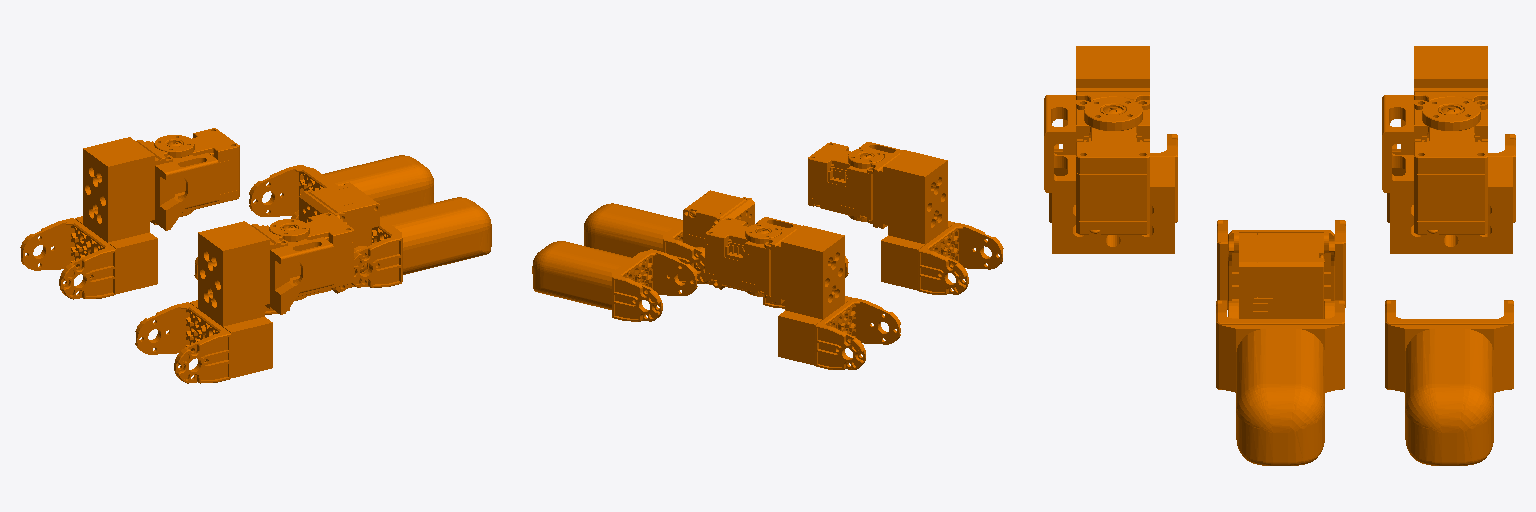
URDF robot description (onshape):
<robot name="onshape">
  <link name="palm_lower">
    <inertial>
      <origin xyz="0.0 0.0 0.0" rpy="0.0 -0.0 0.0"/>
      <mass value="0.237"/>
      <inertia ixx="0.000354094" ixy="-1.193e-06" ixz="-2.445e-06" iyy="0.000260915" iyz="-2.905e-06" izz="0.000529257"/>
    </inertial>
    <visual>
      <geometry>
        <mesh filename="../assets/leap/leap_hand/palm_lower.stl"/>
      </geometry>
      <origin xyz="-0.020095249652862544 0.025757756134899473 -0.034722403578460216" rpy="0.0 -0.0 0.0"/>
      <material name="palm_lower_material">
        <color rgba="0.6039215686274509 0.14901960784313725 0.14901960784313725 1.0"/>
      </material>
    </visual>
    <collision>
      <geometry>
        <mesh filename="../assets/leap/leap_hand/palm_lower.stl"/>
      </geometry>
      <origin xyz="-0.020095249652862544 0.025757756134899473 -0.034722403578460216" rpy="0.0 -0.0 0.0"/>
    </collision>
  </link>
  <link name="mcp_joint_long">
    <inertial>
      <origin xyz="0.0 0.0 0.0" rpy="0.0 -0.0 0.0"/>
      <mass value="0.044"/>
      <inertia ixx="1.1499e-05" ixy="3.049e-06" ixz="1.21e-07" iyy="7.796e-06" iyz="1.12e-07" izz="1.4759e-05"/>
    </inertial>
    <visual>
      <geometry>
        <mesh filename="custom_models/mcp_joint_long.stl"/>
      </geometry>
      <origin xyz="0.008406902261174496 0.0077662438597169954 0.014657354985032912" rpy="1.6375789613221e-15 -1.021047330249102e-30 1.7177968783327987e-31"/>
      <material name="mcp_joint_material">
        <color rgba="0.878 0.467 0.0 1.0"/>
      </material>
    </visual>
    <collision>
      <geometry>
        <mesh filename="custom_models/mcp_joint_long.stl"/>
      </geometry>
      <origin xyz="0.008406902261174496 0.0077662438597169954 0.014657354985032912" rpy="1.6375789613221e-15 -1.021047330249102e-30 1.7177968783327987e-31"/>
    </collision>
  </link>
  <link name="pip">
    <inertial>
      <origin xyz="0.0 0.0 0.0" rpy="0.0 -0.0 0.0"/>
      <mass value="0.032"/>
      <inertia ixx="4.798e-06" ixy="1.2e-08" ixz="4e-09" iyy="2.862e-06" iyz="1.1e-08" izz="4.234e-06"/>
    </inertial>
    <visual>
      <geometry>
        <mesh filename="../assets/leap/leap_hand/pip.stl"/>
      </geometry>
      <origin xyz="0.009643363092271328 0.0002999999999999895 0.0007840340104173765" rpy="-1.5707963267948966 -1.5707963267948963 0.0"/>
      <material name="pip_material">
        <color rgba="0.7490196078431373 0.7490196078431373 0.7490196078431373 1.0"/>
      </material>
    </visual>
    <collision>
      <geometry>
        <mesh filename="../assets/leap/leap_hand/pip.stl"/>
      </geometry>
      <origin xyz="0.009643363092271328 0.0002999999999999895 0.0007840340104173765" rpy="-1.5707963267948966 -1.5707963267948963 0.0"/>
    </collision>
  </link>
  <link name="dip">
    <inertial>
      <origin xyz="0.0 0.0 0.0" rpy="0.0 -0.0 0.0"/>
      <mass value="0.037"/>
      <inertia ixx="5.542e-06" ixy="-6.07e-07" ixz="-1.7e-08" iyy="5.727e-06" iyz="-2.3e-08" izz="6.682e-06"/>
    </inertial>
    <visual>
      <geometry>
        <mesh filename="../assets/leap/leap_hand/dip.stl"/>
      </geometry>
      <origin xyz="0.021133352895225003 -0.00843211914670488 0.00978508816209524" rpy="-3.141592653589793 4.507511124216441e-32 4.439548105392361e-32"/>
      <material name="dip_material">
        <color rgba="0.8666666666666667 0.8666666666666667 0.050980392156862744 1.0"/>
      </material>
    </visual>
    <collision>
      <geometry>
        <mesh filename="../assets/leap/leap_hand/dip.stl"/>
      </geometry>
      <origin xyz="0.021133352895225003 -0.00843211914670488 0.00978508816209524" rpy="-3.141592653589793 4.507511124216441e-32 4.439548105392361e-32"/>
    </collision>
  </link>
  <link name="fingertip_long">
    <inertial>
      <origin xyz="0.0 0.0 0.0" rpy="0.0 -0.0 0.0"/>
      <mass value="0.016"/>
      <inertia ixx="3.368e-06" ixy="1.15e-07" ixz="0.0" iyy="1.556e-06" iyz="0.0" izz="2.863e-06"/>
    </inertial>
    <visual>
      <geometry>
        <mesh filename="custom_models/fingertip_long.stl"/>
      </geometry>
      <origin xyz="0.013286424108533503 -0.006114238386541987 0.014499999999999498" rpy="3.141592653589793 1.1993117970061735e-33 4.439548105392361e-32"/>
      <material name="fingertip_material">
        <color rgba="0.878 0.467 0.0 1.0"/>
      </material>
    </visual>
    <collision>
      <geometry>
        <mesh filename="custom_models/fingertip_long.stl"/>
      </geometry>
      <origin xyz="0.013286424108533503 -0.006114238386541987 0.014499999999999498" rpy="3.141592653589793 1.1993117970061735e-33 4.439548105392361e-32"/>
    </collision>
  </link>
  <link name="pip_4">
    <inertial>
      <origin xyz="0.0 0.0 0.0" rpy="0.0 -0.0 0.0"/>
      <mass value="0.032"/>
      <inertia ixx="4.798e-06" ixy="1.2e-08" ixz="4e-09" iyy="2.862e-06" iyz="1.1e-08" izz="4.234e-06"/>
    </inertial>
    <visual>
      <geometry>
        <mesh filename="../assets/leap/leap_hand/pip.stl"/>
      </geometry>
      <origin xyz="-0.005356636907728671 0.0002999999999999999 0.0007840340104173782" rpy="-1.5707963267948966 -1.5707963267948963 0.0"/>
      <material name="pip_material">
        <color rgba="0.7490196078431373 0.7490196078431373 0.7490196078431373 1.0"/>
      </material>
    </visual>
    <collision>
      <geometry>
        <mesh filename="../assets/leap/leap_hand/pip.stl"/>
      </geometry>
      <origin xyz="-0.005356636907728671 0.0002999999999999999 0.0007840340104173782" rpy="-1.5707963267948966 -1.5707963267948963 0.0"/>
    </collision>
  </link>
  <link name="thumb_pip">
    <inertial>
      <origin xyz="0.0 0.0 0.0" rpy="0.0 -0.0 0.0"/>
      <mass value="0.003"/>
      <inertia ixx="5.93e-07" ixy="0.0" ixz="0.0" iyy="5.49e-07" iyz="0.0" izz="2.24e-07"/>
    </inertial>
    <visual>
      <geometry>
        <mesh filename="../assets/leap/leap_hand/thumb_pip.stl"/>
      </geometry>
      <origin xyz="0.011961920770611187 -5.30825383648903e-16 -0.0158526489566642" rpy="1.5707963267948966 1.6050198443300153e-46 -3.9204996250525193e-59"/>
      <material name="thumb_pip_material">
        <color rgba="0.8666666666666667 0.8666666666666667 0.050980392156862744 1.0"/>
      </material>
    </visual>
    <collision>
      <geometry>
        <mesh filename="../assets/leap/leap_hand/thumb_pip.stl"/>
      </geometry>
      <origin xyz="0.011961920770611187 -5.30825383648903e-16 -0.0158526489566642" rpy="1.5707963267948966 1.6050198443300153e-46 -3.9204996250525193e-59"/>
    </collision>
  </link>
  <link name="thumb_dip">
    <inertial>
      <origin xyz="0.0 0.0 0.0" rpy="0.0 -0.0 0.0"/>
      <mass value="0.038"/>
      <inertia ixx="8.474e-06" ixy="2.41e-07" ixz="2.6e-08" iyy="3.841e-06" iyz="2.5e-08" izz="7.679e-06"/>
    </inertial>
    <visual>
      <geometry>
        <mesh filename="../assets/leap/leap_hand/thumb_dip.stl"/>
      </geometry>
      <origin xyz="0.043968715707239175 0.0579529529737092 -0.008628676449369476" rpy="1.94289029309401e-16 3.27515792264422e-15 1.112375852965736e-46"/>
      <material name="thumb_dip_material">
        <color rgba="0.8666666666666667 0.8666666666666667 0.050980392156862744 1.0"/>
      </material>
    </visual>
    <collision>
      <geometry>
        <mesh filename="../assets/leap/leap_hand/thumb_dip.stl"/>
      </geometry>
      <origin xyz="0.043968715707239175 0.0579529529737092 -0.008628676449369476" rpy="1.94289029309401e-16 3.27515792264422e-15 1.112375852965736e-46"/>
    </collision>
  </link>
  <link name="thumb_fingertip">
    <inertial>
      <origin xyz="0.0 0.0 0.0" rpy="0.0 -0.0 0.0"/>
      <mass value="0.049"/>
      <inertia ixx="2.0372e-05" ixy="-4.89e-07" ixz="-3e-08" iyy="4.336e-06" iyz="-9.7e-08" izz="1.9845e-05"/>
    </inertial>
    <visual>
      <geometry>
        <mesh filename="../assets/leap/leap_hand/thumb_fingertip.stl"/>
      </geometry>
      <origin xyz="0.06255953846266739 0.07845968291139699 0.048992911807332215" rpy="4.379057701015637e-47 -3.33066907387547e-16 1.2042408677791935e-46"/>
      <material name="thumb_fingertip_material">
        <color rgba="0.6039215686274509 0.14901960784313725 0.14901960784313725 1.0"/>
      </material>
    </visual>
    <collision>
      <geometry>
        <mesh filename="../assets/leap/leap_hand/thumb_fingertip.stl"/>
      </geometry>
      <origin xyz="0.06255953846266739 0.07845968291139699 0.048992911807332215" rpy="4.379057701015637e-47 -3.33066907387547e-16 1.2042408677791935e-46"/>
    </collision>
  </link>
  <link name="mcp_joint_2">
    <inertial>
      <origin xyz="0.0 0.0 0.0" rpy="0.0 -0.0 0.0"/>
      <mass value="0.044"/>
      <inertia ixx="1.1499e-05" ixy="3.049e-06" ixz="1.21e-07" iyy="7.796e-06" iyz="1.12e-07" izz="1.4759e-05"/>
    </inertial>
    <visual>
      <geometry>
        <mesh filename="../assets/leap/leap_hand/mcp_joint.stl"/>
      </geometry>
      <origin xyz="0.008406902261174496 0.0077662438597169954 0.014657354985032914" rpy="1.6375789613221e-15 -1.0076465469034e-30 2.1209300131419907e-61"/>
      <material name="mcp_joint_material">
        <color rgba="0.8666666666666667 0.8666666666666667 0.050980392156862744 1.0"/>
      </material>
    </visual>
    <collision>
      <geometry>
        <mesh filename="../assets/leap/leap_hand/mcp_joint.stl"/>
      </geometry>
      <origin xyz="0.008406902261174496 0.0077662438597169954 0.014657354985032914" rpy="1.6375789613221e-15 -1.0076465469034e-30 2.1209300131419907e-61"/>
    </collision>
  </link>
  <link name="pip_2">
    <inertial>
      <origin xyz="0.0 0.0 0.0" rpy="0.0 -0.0 0.0"/>
      <mass value="0.032"/>
      <inertia ixx="4.798e-06" ixy="1.2e-08" ixz="4e-09" iyy="2.862e-06" iyz="1.1e-08" izz="4.234e-06"/>
    </inertial>
    <visual>
      <geometry>
        <mesh filename="../assets/leap/leap_hand/pip.stl"/>
      </geometry>
      <origin xyz="0.009643363092271328 0.0002999999999999947 0.0007840340104173765" rpy="-1.5707963267948966 -1.5707963267948963 0.0"/>
      <material name="pip_material">
        <color rgba="0.7490196078431373 0.7490196078431373 0.7490196078431373 1.0"/>
      </material>
    </visual>
    <collision>
      <geometry>
        <mesh filename="../assets/leap/leap_hand/pip.stl"/>
      </geometry>
      <origin xyz="0.009643363092271328 0.0002999999999999947 0.0007840340104173765" rpy="-1.5707963267948966 -1.5707963267948963 0.0"/>
    </collision>
  </link>
  <link name="dip_2_long">
    <inertial>
      <origin xyz="0.0 0.0 0.0" rpy="0.0 -0.0 0.0"/>
      <mass value="0.037"/>
      <inertia ixx="5.542e-06" ixy="-6.07e-07" ixz="-1.7e-08" iyy="5.727e-06" iyz="-2.3e-08" izz="6.682e-06"/>
    </inertial>
    <visual>
      <geometry>
        <mesh filename="custom_models/dip_long.stl"/>
      </geometry>
      <origin xyz="0.021133352895225003 -0.008432119146704865 0.009785088162095237" rpy="-3.141592653589793 2.1146933785271956e-32 1.4408183216511869e-31"/>
      <material name="dip_material">
        <color rgba="0.878 0.467 0.0 1.0"/>
      </material>
    </visual>
    <collision>
      <geometry>
        <mesh filename="custom_models/dip_long.stl"/>
      </geometry>
      <origin xyz="0.021133352895225003 -0.008432119146704865 0.009785088162095237" rpy="-3.141592653589793 2.1146933785271956e-32 1.4408183216511869e-31"/>
    </collision>
  </link>
  <link name="fingertip_2_long">
    <inertial>
      <origin xyz="0.0 0.0 0.0" rpy="0.0 -0.0 0.0"/>
      <mass value="0.016"/>
      <inertia ixx="3.368e-06" ixy="1.15e-07" ixz="0.0" iyy="1.556e-06" iyz="0.0" izz="2.863e-06"/>
    </inertial>
    <visual>
      <geometry>
        <mesh filename="custom_models/fingertip_long.stl"/>
      </geometry>
      <origin xyz="0.013286424108533496 -0.006114238386542001 0.014499999999999496" rpy="3.141592653589793 -4.317959788283594e-33 1.4408183216511869e-31"/>
      <material name="fingertip_material">
        <color rgba="0.878 0.467 0.0 1.0"/>
      </material>
    </visual>
    <collision>
      <geometry>
        <mesh filename="custom_models/fingertip_long.stl"/>
      </geometry>
      <origin xyz="0.013286424108533496 -0.006114238386542001 0.014499999999999496" rpy="3.141592653589793 -4.317959788283594e-33 1.4408183216511869e-31"/>
    </collision>
  </link>
  <link name="mcp_joint_3_long">
    <inertial>
      <origin xyz="0.0 0.0 0.0" rpy="0.0 -0.0 0.0"/>
      <mass value="0.044"/>
      <inertia ixx="1.1499e-05" ixy="3.049e-06" ixz="1.21e-07" iyy="7.796e-06" iyz="1.12e-07" izz="1.4759e-05"/>
    </inertial>
    <visual>
      <geometry>
        <mesh filename="custom_models/mcp_joint_long.stl"/>
      </geometry>
      <origin xyz="0.0084069022611745 0.007766243859716996 0.014657354985032914" rpy="1.6375789613221e-15 -1.0059504988632627e-30 5.729641584552035e-32"/>
      <material name="mcp_joint_material">
        <color rgba="0.878 0.467 0.0 1.0"/>
      </material>
    </visual>
    <collision>
      <geometry>
        <mesh filename="custom_models/mcp_joint_long.stl"/>
      </geometry>
      <origin xyz="0.0084069022611745 0.007766243859716996 0.014657354985032914" rpy="1.6375789613221e-15 -1.0059504988632627e-30 5.729641584552035e-32"/>
    </collision>
  </link>
  <link name="pip_3">
    <inertial>
      <origin xyz="0.0 0.0 0.0" rpy="0.0 -0.0 0.0"/>
      <mass value="0.032"/>
      <inertia ixx="4.798e-06" ixy="1.2e-08" ixz="4e-09" iyy="2.862e-06" iyz="1.1e-08" izz="4.234e-06"/>
    </inertial>
    <visual>
      <geometry>
        <mesh filename="../assets/leap/leap_hand/pip.stl"/>
      </geometry>
      <origin xyz="0.009643363092271331 0.00029999999999998084 0.0007840340104173765" rpy="-1.5707963267948966 -1.5707963267948963 0.0"/>
      <material name="pip_material">
        <color rgba="0.7490196078431373 0.7490196078431373 0.7490196078431373 1.0"/>
      </material>
    </visual>
    <collision>
      <geometry>
        <mesh filename="../assets/leap/leap_hand/pip.stl"/>
      </geometry>
      <origin xyz="0.009643363092271331 0.00029999999999998084 0.0007840340104173765" rpy="-1.5707963267948966 -1.5707963267948963 0.0"/>
    </collision>
  </link>
  <link name="dip_3">
    <inertial>
      <origin xyz="0.0 0.0 0.0" rpy="0.0 -0.0 0.0"/>
      <mass value="0.037"/>
      <inertia ixx="5.542e-06" ixy="-6.07e-07" ixz="-1.7e-08" iyy="5.727e-06" iyz="-2.3e-08" izz="6.682e-06"/>
    </inertial>
    <visual>
      <geometry>
        <mesh filename="../assets/leap/leap_hand/dip.stl"/>
      </geometry>
      <origin xyz="0.021133352895225006 -0.008432119146704865 0.009785088162095237" rpy="-3.141592653589793 -1.4095651113919093e-33 1.5565411607615035e-32"/>
      <material name="dip_material">
        <color rgba="0.8666666666666667 0.8666666666666667 0.050980392156862744 1.0"/>
      </material>
    </visual>
    <collision>
      <geometry>
        <mesh filename="../assets/leap/leap_hand/dip.stl"/>
      </geometry>
      <origin xyz="0.021133352895225006 -0.008432119146704865 0.009785088162095237" rpy="-3.141592653589793 -1.4095651113919093e-33 1.5565411607615035e-32"/>
    </collision>
  </link>
  <link name="fingertip_3">
    <inertial>
      <origin xyz="0.0 0.0 0.0" rpy="0.0 -0.0 0.0"/>
      <mass value="0.016"/>
      <inertia ixx="3.368e-06" ixy="1.15e-07" ixz="0.0" iyy="1.556e-06" iyz="0.0" izz="2.863e-06"/>
    </inertial>
    <visual>
      <geometry>
        <mesh filename="../assets/leap/leap_hand/fingertip.stl"/>
      </geometry>
      <origin xyz="0.013286424108533501 -0.006114238386541987 0.0144999999999995" rpy="3.141592653589793 8.61707169505754e-33 1.5565411607615035e-32"/>
      <material name="fingertip_material">
        <color rgba="0.8666666666666667 0.8666666666666667 0.050980392156862744 1.0"/>
      </material>
    </visual>
    <collision>
      <geometry>
        <mesh filename="../assets/leap/leap_hand/fingertip.stl"/>
      </geometry>
      <origin xyz="0.013286424108533501 -0.006114238386541987 0.0144999999999995" rpy="3.141592653589793 8.61707169505754e-33 1.5565411607615035e-32"/>
    </collision>
  </link>
  <joint name="1" type="revolute">
    <parent link="palm_lower"/>
    <child link="mcp_joint_long"/>
    <origin xyz="-0.007095249652862546 0.023057756134899472 -0.01872240357846022" rpy="1.570796326794895 1.5707963267948946 0.0"/>
    <axis xyz="0.0 0.0 -1.0"/>
    <limit effort="0.95" velocity="8.48" lower="-0.314" upper="2.23"/>
  </joint>
  <joint name="0" type="revolute">
    <parent link="mcp_joint_long"/>
    <child link="pip"/>
    <origin xyz="-0.012200000000000007713 0.053099999999999994982 0.014500000000000000736" rpy="-1.5707963267948966 -1.0065212660796337e-15 1.5707963267948943"/>
    <axis xyz="0.0 0.0 -1.0"/>
    <limit effort="0.95" velocity="8.48" lower="-1.047" upper="1.047"/>
  </joint>
  <joint name="2" type="revolute">
    <parent link="pip"/>
    <child link="dip"/>
    <origin xyz="0.014999999999999968 0.014299999999999905 -0.012999999999999824" rpy="1.570796326794896 -1.5707963267948963 0.0"/>
    <axis xyz="0.0 0.0 -1.0"/>
    <limit effort="0.95" velocity="8.48" lower="-0.506" upper="1.885"/>
  </joint>
  <joint name="3" type="revolute">
    <parent link="dip"/>
    <child link="fingertip_long"/>
    <origin xyz="-4.088058249557269e-09 -0.03610000421036737 0.0002000000000000786" rpy="4.5935029425113685e-17 -2.8730071914463795e-16 4.439548105392361e-32"/>
    <axis xyz="0.0 0.0 -1.0"/>
    <limit effort="0.95" velocity="8.48" lower="-0.366" upper="2.042"/>
  </joint>
  <joint name="12" type="revolute">
    <parent link="palm_lower"/>
    <child link="pip_4"/>
    <origin xyz="-0.06939524965286253 -0.0012422438651005258 -0.021622403578460216" rpy="-8.238176646493942e-17 1.5707963267948957 0.0"/>
    <axis xyz="0.0 0.0 -1.0"/>
    <limit effort="0.95" velocity="8.48" lower="-0.349" upper="2.094"/>
  </joint>
  <joint name="13" type="revolute">
    <parent link="pip_4"/>
    <child link="thumb_pip"/>
    <origin xyz="-2.7755575615628914e-17 0.014300000000000005 -0.013000000000000012" rpy="1.570796326794896 -1.5707963267948963 0.0"/>
    <axis xyz="0.0 0.0 -1.0"/>
    <limit effort="0.95" velocity="8.48" lower="-0.47" upper="2.443"/>
  </joint>
  <joint name="14" type="revolute">
    <parent link="thumb_pip"/>
    <child link="thumb_dip"/>
    <origin xyz="0.0 0.014499999999999966 -0.017000000000000053" rpy="-1.5707963267948966 1.6050198443300131e-46 -1.9721522630516625e-31"/>
    <axis xyz="0.0 0.0 -1.0"/>
    <limit effort="0.95" velocity="8.48" lower="-1.2" upper="1.9"/>
  </joint>
  <joint name="15" type="revolute">
    <parent link="thumb_dip"/>
    <child link="thumb_fingertip"/>
    <origin xyz="-1.249000902703301e-16 0.046599999999999864 0.0001999999999999771" rpy="1.506395849149178e-44 5.423418723393526e-31 3.141592653589793"/>
    <axis xyz="0.0 0.0 -1.0"/>
    <limit effort="0.95" velocity="8.48" lower="-1.34" upper="1.88"/>
  </joint>
  <joint name="5" type="revolute">
    <parent link="palm_lower"/>
    <child link="mcp_joint_2"/>
    <origin xyz="-0.007095249652862546 -0.022392243865100525 -0.01872240357846022" rpy="1.570796326794895 1.5707963267948946 0.0"/>
    <axis xyz="0.0 0.0 -1.0"/>
    <limit effort="0.95" velocity="8.48" lower="-0.314" upper="2.23"/>
  </joint>
  <joint name="4" type="revolute">
    <parent link="mcp_joint_2"/>
    <child link="pip_2"/>
    <origin xyz="-0.012200000000000008 0.038099999999999995 0.0145" rpy="-1.5707963267948966 -1.0065212660796337e-15 1.5707963267948943"/>
    <axis xyz="0.0 0.0 -1.0"/>
    <limit effort="0.95" velocity="8.48" lower="-1.047" upper="1.047"/>
  </joint>
  <joint name="6" type="revolute">
    <parent link="pip_2"/>
    <child link="dip_2_long"/>
    <origin xyz="0.014999999999999968 0.014299999999999905 -0.012999999999999824" rpy="1.570796326794896 -1.5707963267948963 0.0"/>
    <axis xyz="0.0 0.0 -1.0"/>
    <limit effort="0.95" velocity="8.48" lower="-0.506" upper="1.885"/>
  </joint>
  <joint name="7" type="revolute">
    <parent link="dip_2_long"/>
    <child link="fingertip_2_long"/>
    <origin xyz="-4.0880582495572692636e-09 -0.051100004210367367397 0.00020000000000007858714" rpy="4.5935029425113685e-17 -2.8730071914463795e-16 4.439548105392361e-32"/>
    <axis xyz="0.0 0.0 -1.0"/>
    <limit effort="0.95" velocity="8.48" lower="-0.366" upper="2.042"/>
  </joint>
  <joint name="9" type="revolute">
    <parent link="palm_lower"/>
    <child link="mcp_joint_3_long"/>
    <origin xyz="-0.007095249652862546 -0.06784224386510052 -0.01872240357846022" rpy="1.570796326794895 1.5707963267948946 0.0"/>
    <axis xyz="0.0 0.0 -1.0"/>
    <limit effort="0.95" velocity="8.48" lower="-0.314" upper="2.23"/>
  </joint>
  <joint name="8" type="revolute">
    <parent link="mcp_joint_3_long"/>
    <child link="pip_3"/>
    <origin xyz="-0.012200000000000007713 0.053099999999999994982 0.014500000000000000736" rpy="-1.5707963267948966 -1.0065212660796337e-15 1.5707963267948943"/>
    <axis xyz="0.0 0.0 -1.0"/>
    <limit effort="0.95" velocity="8.48" lower="-1.047" upper="1.047"/>
  </joint>
  <joint name="10" type="revolute">
    <parent link="pip_3"/>
    <child link="dip_3"/>
    <origin xyz="0.014999999999999968 0.014299999999999905 -0.012999999999999824" rpy="1.570796326794896 -1.5707963267948963 0.0"/>
    <axis xyz="0.0 0.0 -1.0"/>
    <limit effort="0.95" velocity="8.48" lower="-0.506" upper="1.885"/>
  </joint>
  <joint name="11" type="revolute">
    <parent link="dip_3"/>
    <child link="fingertip_3"/>
    <origin xyz="-4.088058249557269e-09 -0.03610000421036737 0.0002000000000000786" rpy="4.5935029425113685e-17 -2.8730071914463795e-16 4.439548105392361e-32"/>
    <axis xyz="0.0 0.0 -1.0"/>
    <limit effort="0.95" velocity="8.48" lower="-0.366" upper="2.042"/>
  </joint>
</robot>

--- What the picture shows (computed from the rendered views, not written in the file) ---
The picture shows the robot from 3 angles, left to right: view 1: azimuth 30°, elevation 25°; view 2: azimuth 150°, elevation 25°; view 3: azimuth 270°, elevation 25°; orthographic projection.
Robot: onshape — 17 links, 16 joints (16 revolute); root link palm_lower; default pose: every joint at zero.
Links seen in each view (by area): view 1: mcp_joint_long, mcp_joint_3_long, fingertip_2_long, fingertip_long, dip_2_long; view 2: mcp_joint_long, mcp_joint_3_long, fingertip_long, fingertip_2_long, dip_2_long; view 3: mcp_joint_long, mcp_joint_3_long, fingertip_long, fingertip_2_long, dip_2_long.
Boxes of the visible links, x1,y1,x2,y2 form: mcp_joint_long: [20, 128, 239, 299]; mcp_joint_3_long: [135, 212, 353, 383]; fingertip_2_long: [352, 197, 491, 287]; fingertip_long: [249, 155, 433, 219]; dip_2_long: [194, 182, 379, 314]; mcp_joint_long: [705, 217, 900, 369]; mcp_joint_3_long: [808, 142, 1003, 294]; fingertip_long: [532, 241, 697, 321]; fingertip_2_long: [584, 203, 707, 283]; dip_2_long: [683, 190, 848, 308]; mcp_joint_long: [1382, 46, 1515, 253]; mcp_joint_3_long: [1044, 46, 1177, 253]; fingertip_long: [1385, 300, 1513, 465]; fingertip_2_long: [1216, 300, 1344, 465]; dip_2_long: [1217, 220, 1345, 318].
Bounding box of the posed robot: 0.1766 × 0.1267 × 0.0549 m (x, y, z).
5 mesh visuals loaded from 11 distinct referenced files (3 binary STL); not drawn: 12 (reference not matched to a file when rendering).